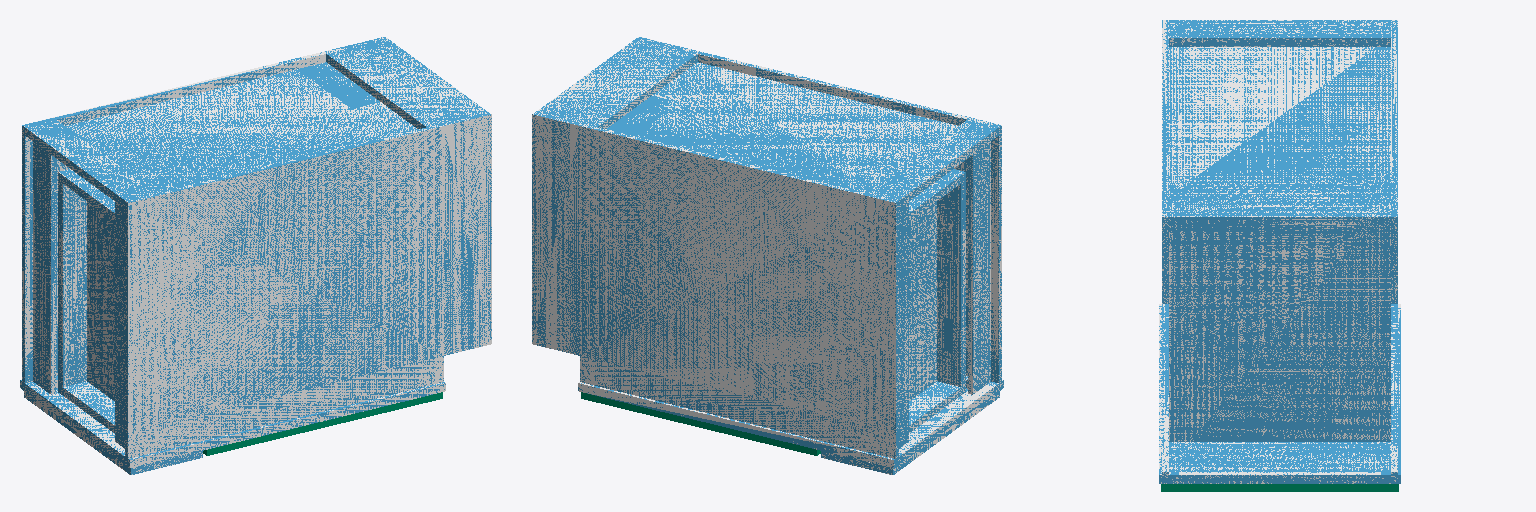
URDF robot description (right-pull-door):
<?xml version="1.0" ?>
<robot name="right-pull-door">
	<link name="base"/>
	<link name="link_0">
		<visual name="out-frame">
			<origin xyz="0 0 0"/>
			<geometry>
				<mesh filename="texture_dae/frame.dae" scale="0.8 0.8 0.8"/>
			</geometry>
		</visual>
		<collision>
			<origin xyz="0 0 0"/>
			<geometry>
				<mesh filename="texture_dae/frame.dae" scale="0.8 0.8 0.8"/>
			</geometry>
		</collision>
	</link>
	<joint name="joint_0" type="fixed">
		<origin rpy="1.570796326794897 0 -1.570796326794897" xyz="0 0 0"/>
		<child link="link_0"/>
		<parent link="base"/>
	</joint>
	<link name="link_1">
		<visual name="surf-board">
			<origin xyz="0.5817484855651855 -0.2446824552565545 0"/>
			<geometry>
				<mesh filename="texture_dae/board.dae" scale="0.8 0.8 0.8"/>
			</geometry>
		</visual>
		<collision>
			<origin xyz="0.5817484855651855 -0.2446824552565545 0"/>
			<geometry>
				<mesh filename="texture_dae/board.dae" scale="0.8 0.8 0.8"/>
			</geometry>
		</collision>
	</link>
	<joint name="joint_1" type="revolute">
		<origin xyz="-0.5817484855651855 0.2446824552565545 0"/>
		<axis xyz="0 -1 0"/>
		<child link="link_1"/>
		<parent link="link_0"/>
		<limit lower="0" upper="1.5079644737231006"/>
	</joint>
	<link name="link_2">
		<visual name="handle">
			<origin xyz="0 0 0"/>
			<geometry>
				<mesh filename="texture_dae/9962004.dae" scale="1.4094919557734131 1.4094919557734131 1.4094919557734131"/>
			</geometry>
		</visual>
		<collision>
			<origin xyz="0 0 0"/>
			<geometry>
				<mesh filename="texture_dae/9962004.dae" scale="1.4094919557734131 1.4094919557734131 1.4094919557734131"/>
			</geometry>
		</collision>
	</link>
	<joint name="joint_2" type="revolute">
		<origin xyz="0.5817484855651855 -0.2446824552565545 0.013439838454067838"/>
		<child link="link_2"/>
		<parent link="link_1"/>
		<axis xyz="0 0 1"/>
		<limit lower="0" upper="1.5079644737231006"/>
	</joint>
</robot>

--- Render facts (derived) ---
3 views of the same robot in one strip: view 1: azimuth 30°, elevation 25°; view 2: azimuth 150°, elevation 25°; view 3: azimuth 270°, elevation 25° (orthographic).
Model right-pull-door with 4 links and 3 joints (2 revolute, 1 fixed), rooted at base, posed every joint at zero.
Visible links, largest first — view 1: link_0, link_1; view 2: link_0, link_1; view 3: link_0, link_1.
Boxes of the visible links, x1,y1,x2,y2 form: link_0: (20,37,491,474); link_1: (203,392,442,455); link_0: (532,37,1003,474); link_1: (581,392,820,455); link_0: (1159,20,1400,483); link_1: (1161,484,1398,491).
Bounding box of the posed robot: 1.24 × 0.6481 × 0.9497 m (x, y, z).
Meshes: 3 distinct files referenced, 2 mesh visuals loaded (2 Collada DAE); not drawn: 1 (reference not matched to a file when rendering).
